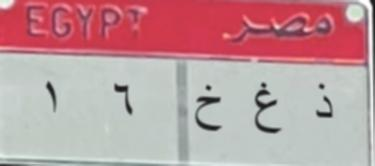1: (42, 78, 63, 118)
6: (108, 76, 138, 120)
ghayn: (247, 78, 285, 142)
khaa: (188, 81, 226, 138)
zaal: (305, 77, 340, 123)
